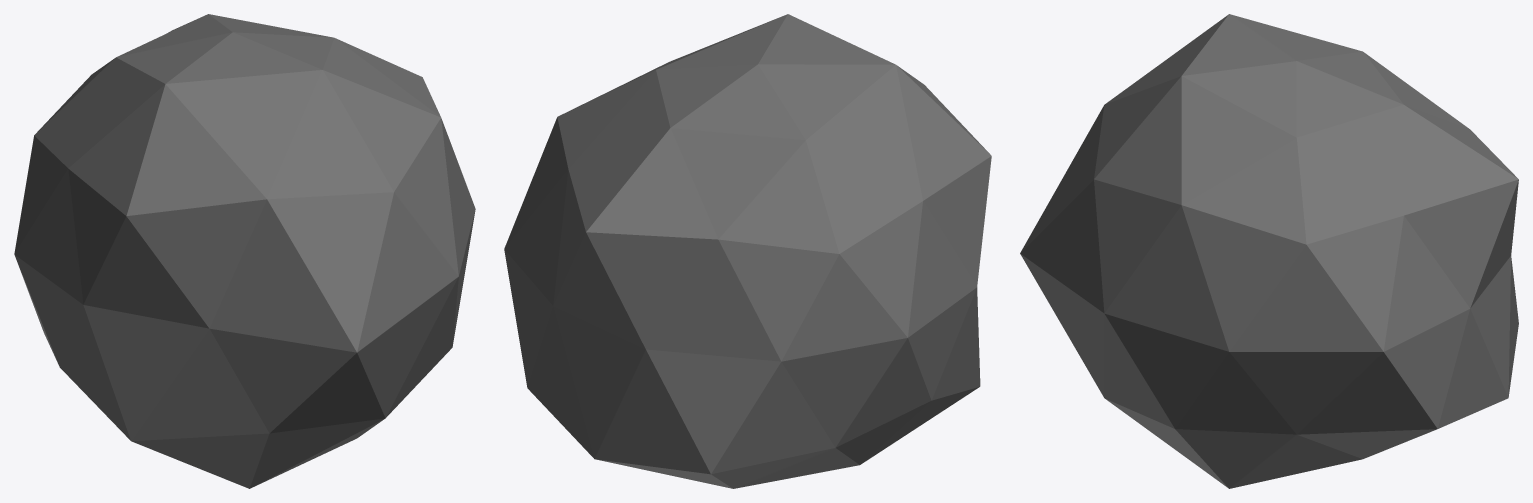
File: WALUUN.fbx
The picture shows the model from 3 angles, left to right: view 1: azimuth 30°, elevation 25°; view 2: azimuth 150°, elevation 25°; view 3: azimuth 270°, elevation 25°; orthographic projection. The views are drawn at different scales.
Parts seen in each view (by area): view 1: WALUUN; view 2: WALUUN; view 3: WALUUN.
Part boxes in pixels (box(x1,y1,x2,y2)): WALUUN: box(14, 14, 475, 488); WALUUN: box(504, 14, 991, 488); WALUUN: box(1020, 14, 1518, 488).
Size of the model in its own units: 2.02 by 2 by 2.33.
